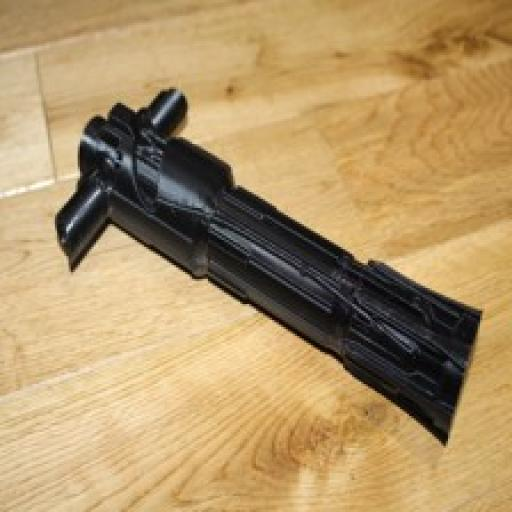lightsaber: (54, 80, 487, 449)
